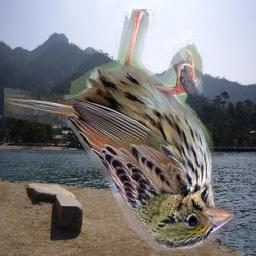Sparrow: (4, 9, 234, 251)
